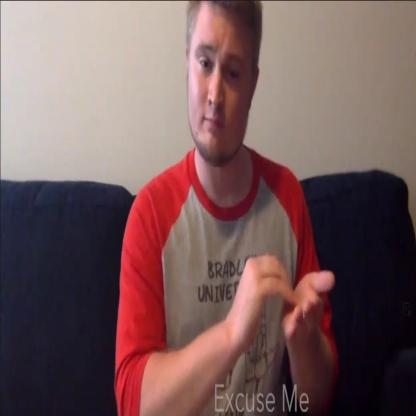ExcuseMe: (233, 229, 342, 364)
